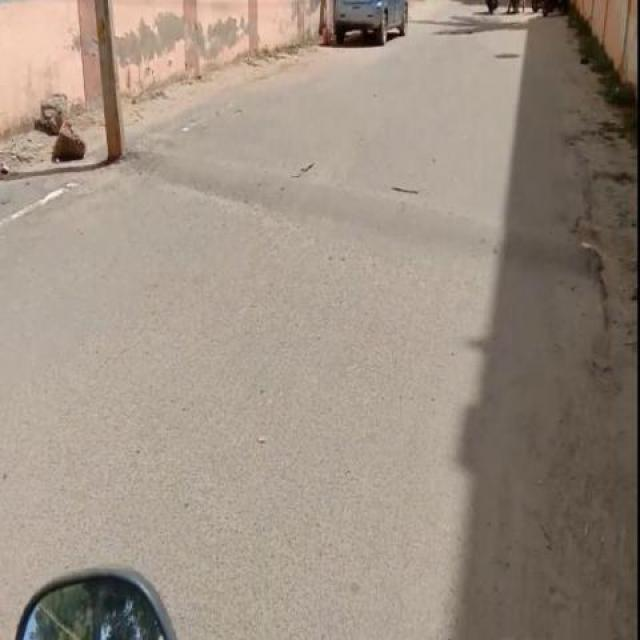Manhole: (492, 51, 522, 62)
Pothole: (288, 156, 318, 186), (384, 180, 422, 198)
Unmarked Bump: (124, 149, 604, 280)
